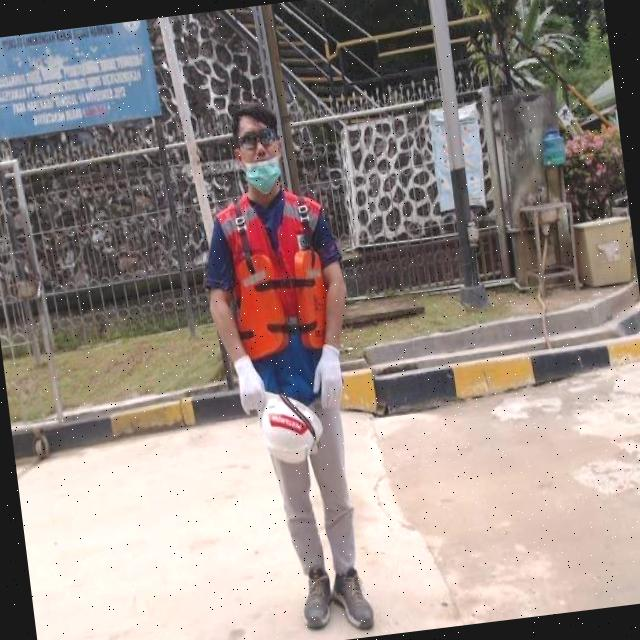boots: (328, 566, 378, 636), (294, 560, 336, 634)
helmet: (252, 382, 326, 470)
vest: (211, 191, 347, 414)
